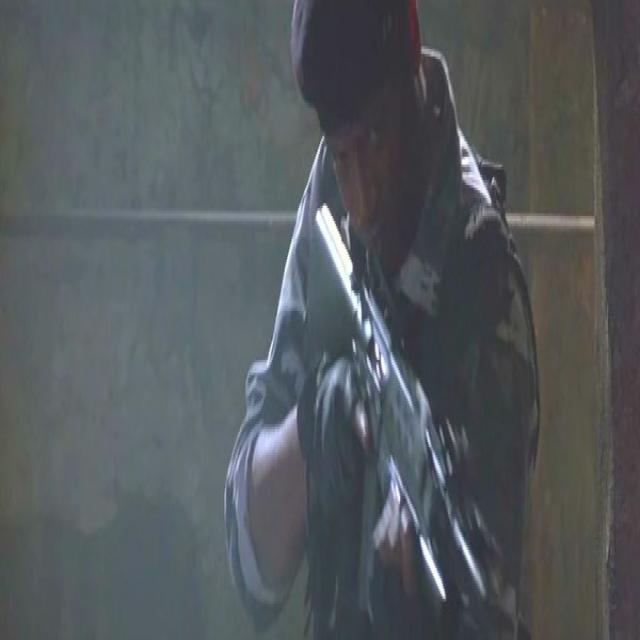rifle: (306, 201, 499, 632)
